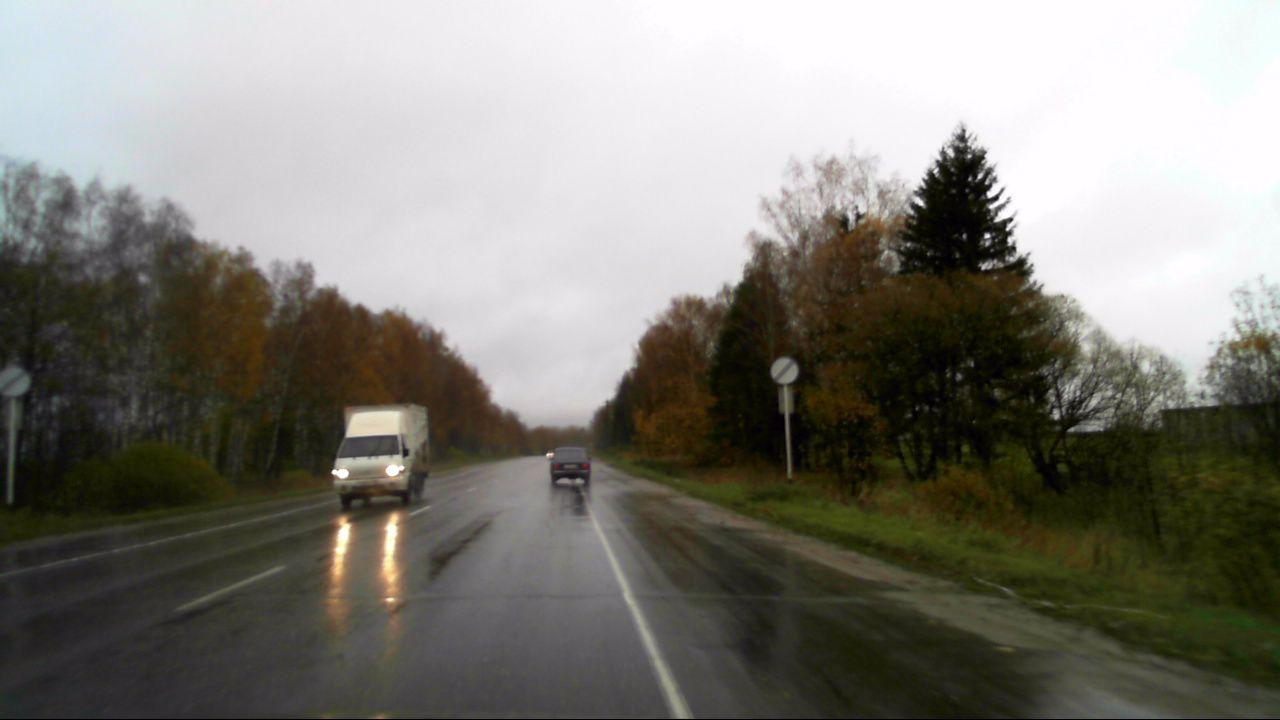3_31: (0, 366, 34, 397), (770, 356, 799, 385)
